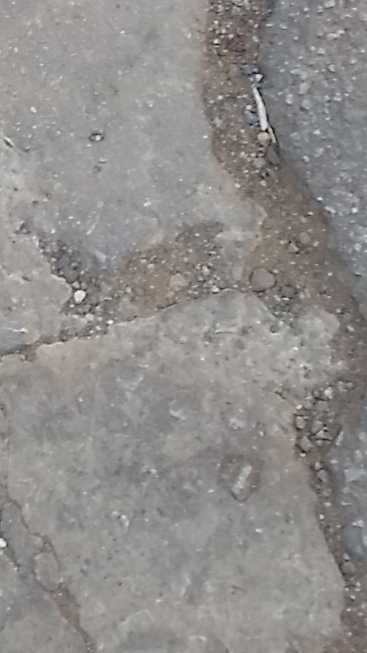A: (45, 5, 367, 587)
